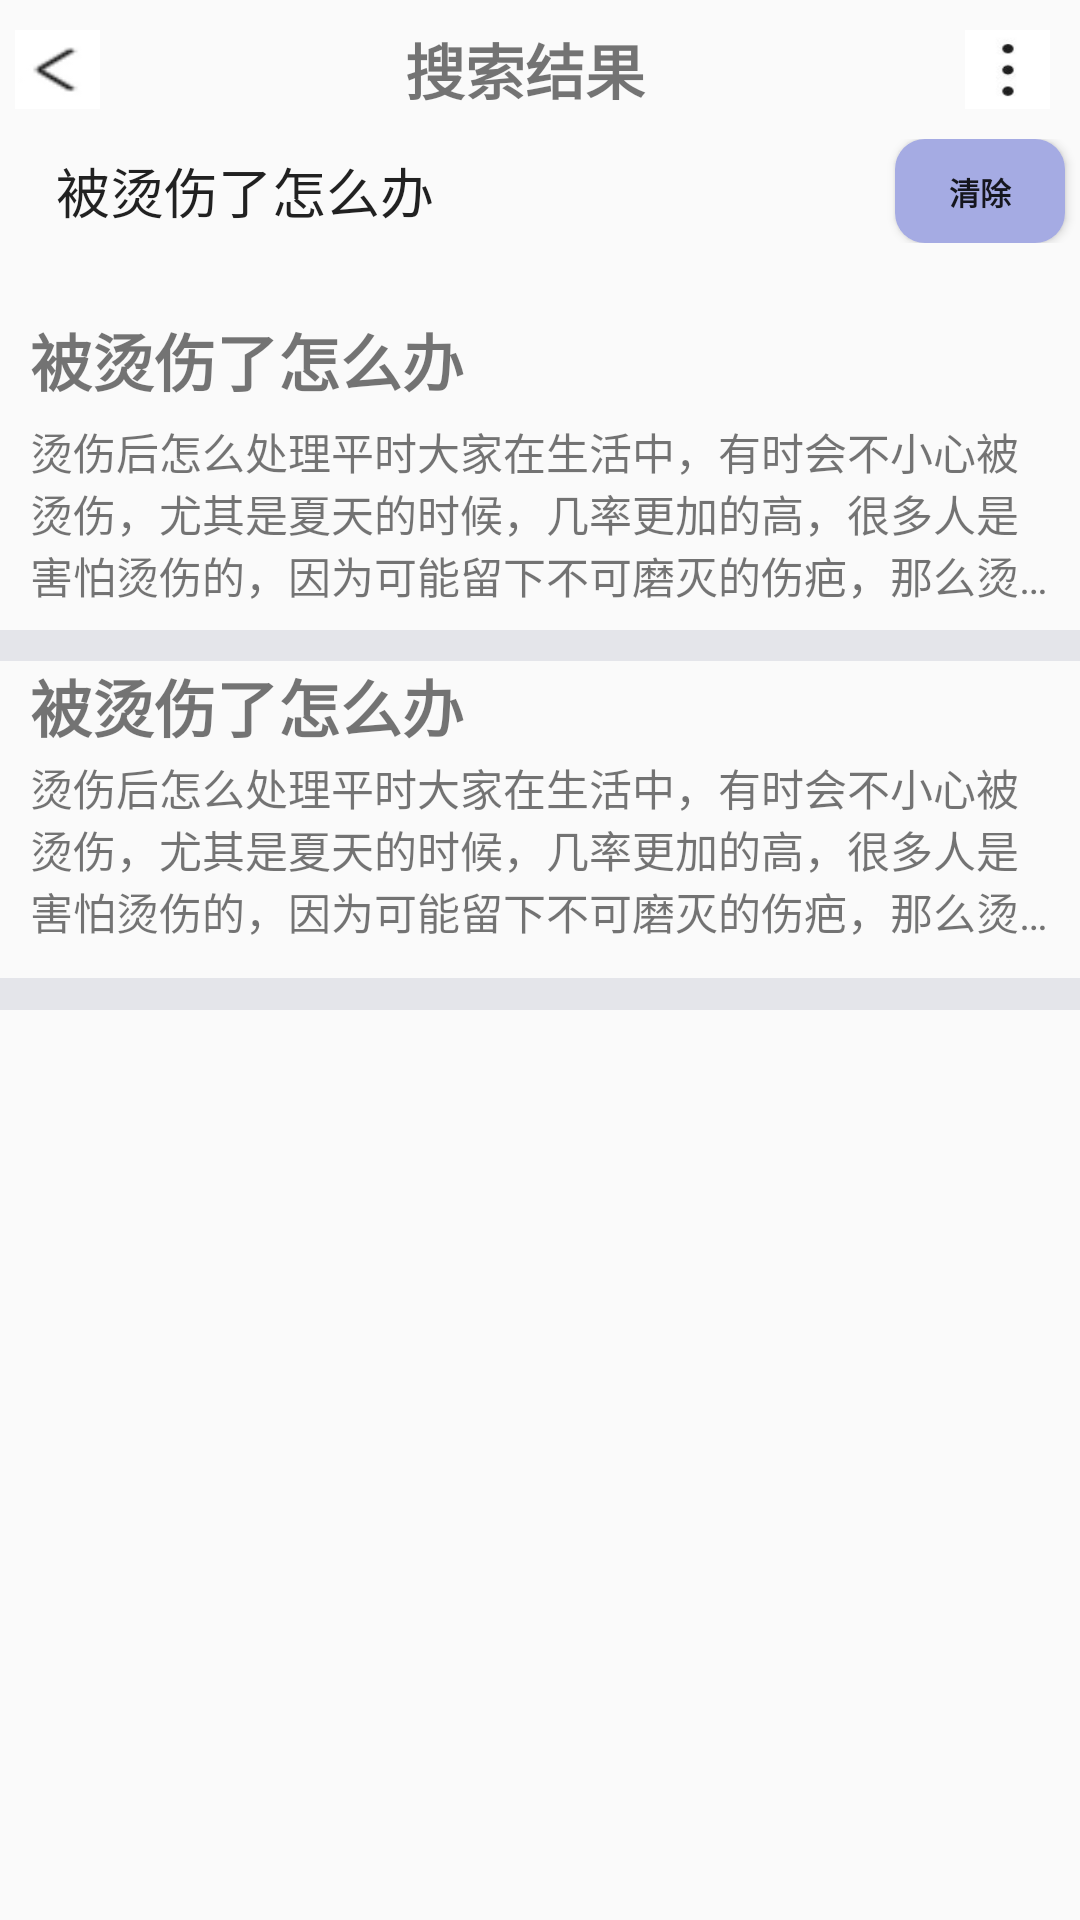

Icon click points for this 1080x1920 phone screenshot, format point (x, y):
back: point (55, 70)
menu: point (1008, 70)
